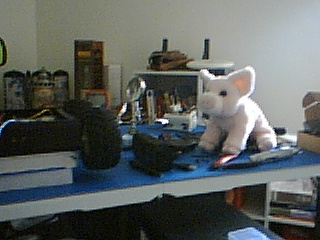piggy: (195, 64, 279, 156)
